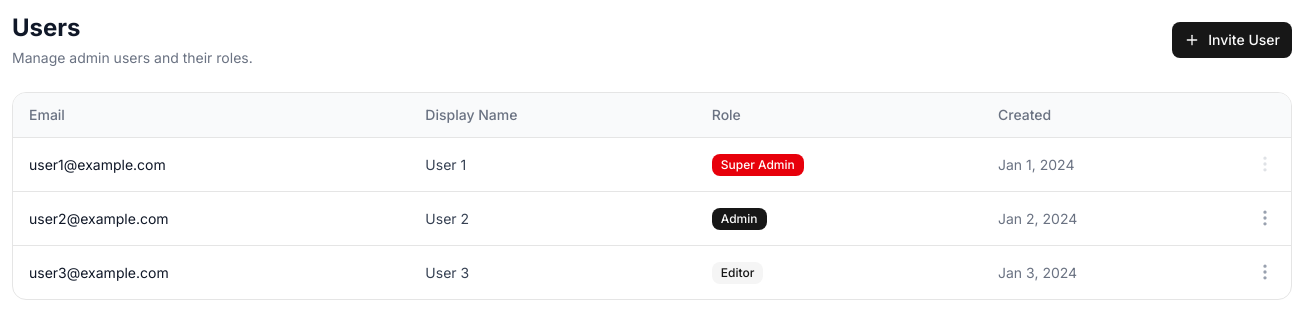
Test case: UsersManager › closes action menu when clicking the same button again
Click the button without text in the row of "user2@example.com".
click(1265, 218)  # box [1251, 204, 1279, 232]
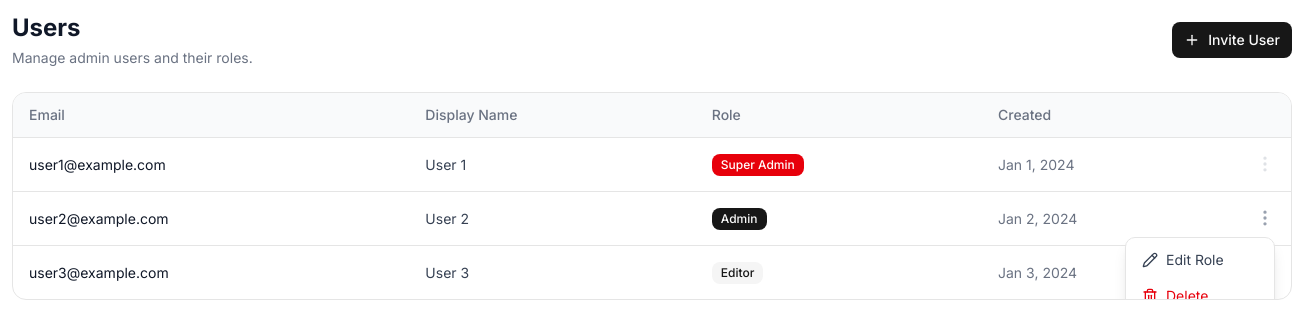
Check: the button "Edit Role" is shown, box [1126, 242, 1274, 278]
Click the button without text in the row of "user2@example.com".
click(1265, 218)  # box [1251, 204, 1279, 232]
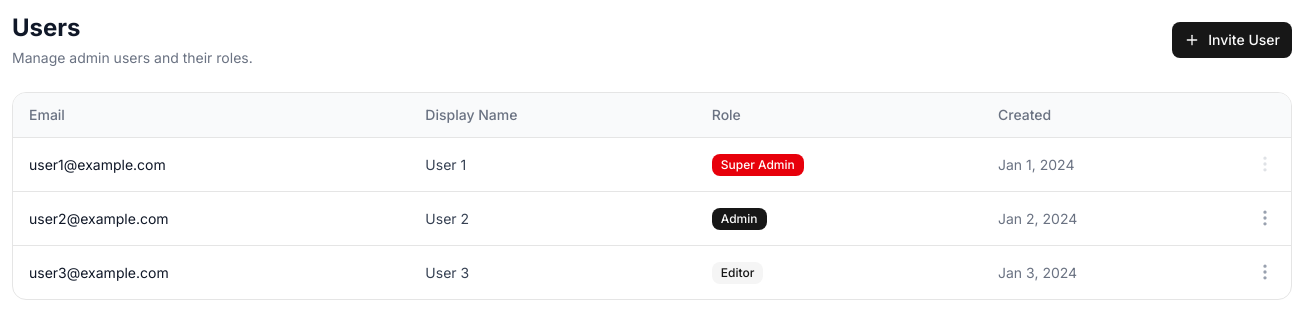
Check: the button "Edit Role" is gone
